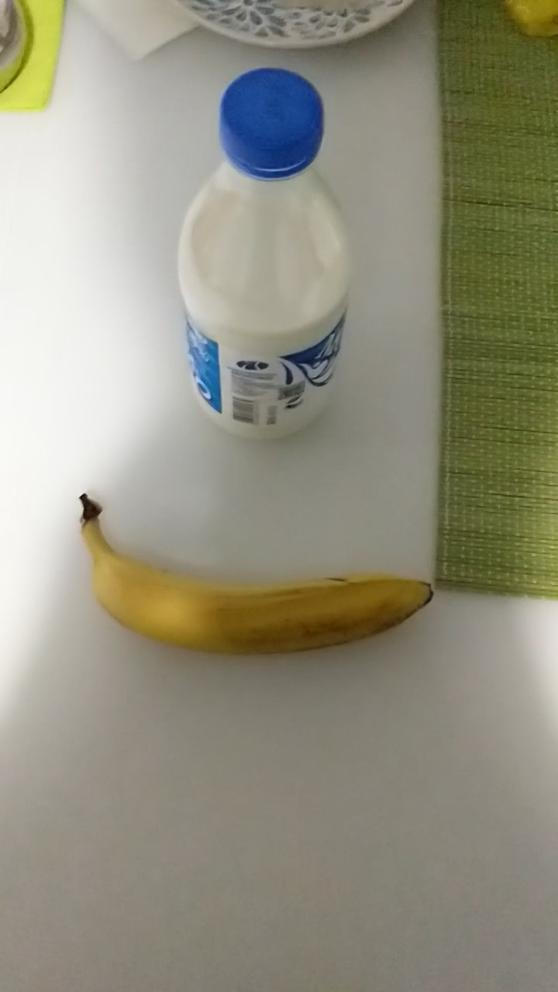banana: (61, 482, 453, 675)
milk: (165, 52, 374, 458)
